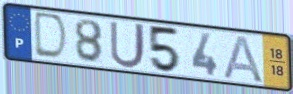4: (190, 31, 220, 78)
5: (147, 23, 184, 75)
8: (72, 19, 106, 64)
A: (222, 34, 266, 85)
D: (33, 10, 70, 63)
U: (108, 19, 147, 71)
